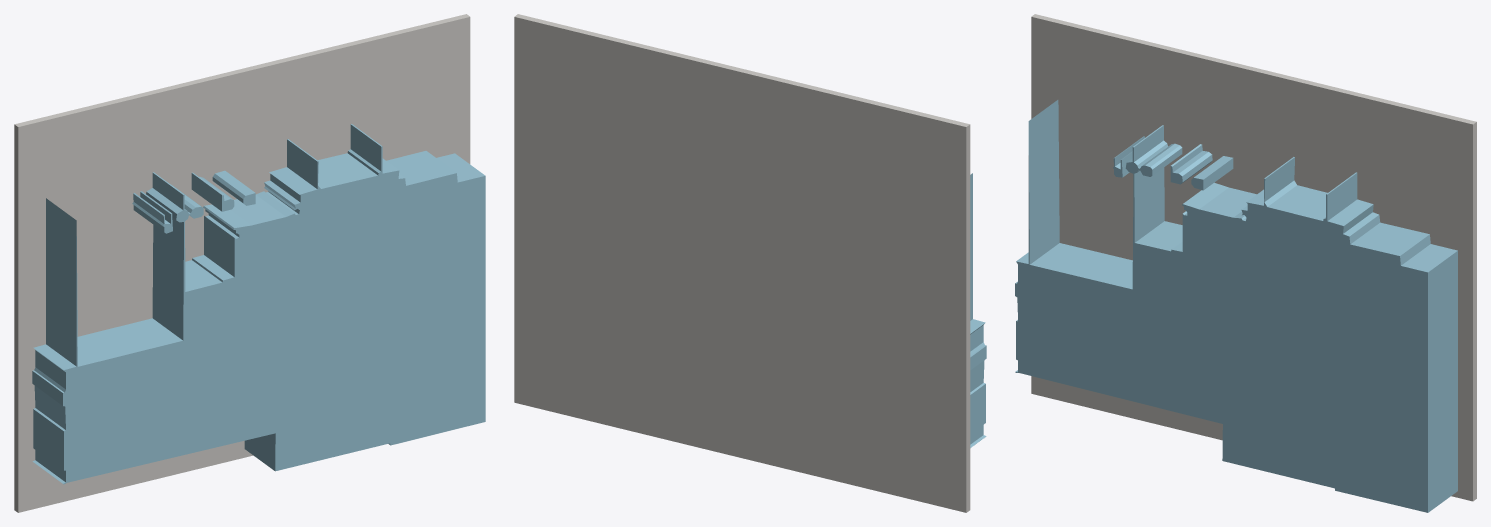
3 renders of one model, left to right at view 1: azimuth 30°, elevation 25°; view 2: azimuth 150°, elevation 25°; view 3: azimuth 330°, elevation 25°, orthographic. The views are drawn at different scales.
Parts seen in each view (by area): view 1: world; view 2: world; view 3: world.
Boxes of the visible parts, x1,y1,x2,y2 form: world: (14,14,485,512); world: (514,14,986,512); world: (1015,14,1476,512).
Size of the model in its own units: 10.23 by 8.34 by 1.35.
